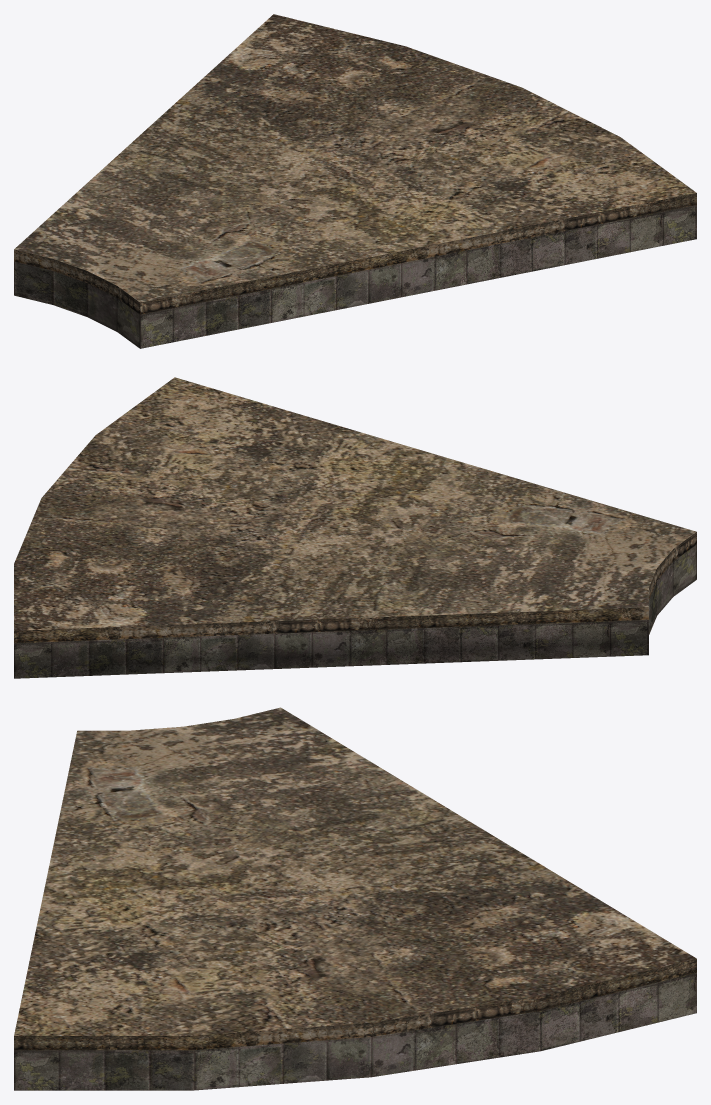
File: materials_5_steps_14.fbx
3 renders of one model, top to bottom at view 1: azimuth 30°, elevation 25°; view 2: azimuth 150°, elevation 25°; view 3: azimuth 270°, elevation 25°, orthographic. The views are drawn at different scales.
Visible parts, largest first — view 1: materials_5_steps_14; view 2: materials_5_steps_14; view 3: materials_5_steps_14.
Boxes of the visible parts, bbox=[...] form: materials_5_steps_14: bbox=[14, 14, 696, 348]; materials_5_steps_14: bbox=[14, 377, 696, 678]; materials_5_steps_14: bbox=[14, 707, 696, 1090].
Size of the model in its own units: 90.94 by 7.03 by 79.9.
